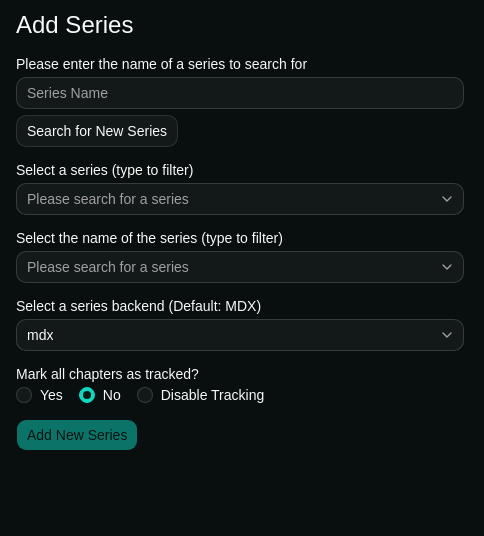
Test case: AddSeriesPage › requires a backend id for non-default backends
The image size is (484, 536).
Type "Test" into the field labelled "Please enter the name of a series to search for" at x=240, y=93, box [16,77,464,109]
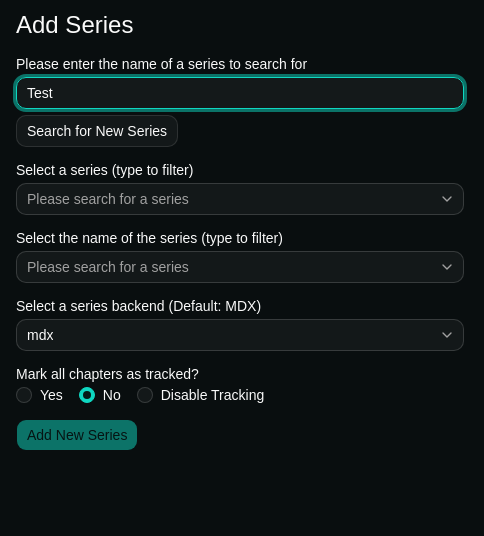
Click the button "Search for New Series" at x=97, y=131, box [16,115,178,147]
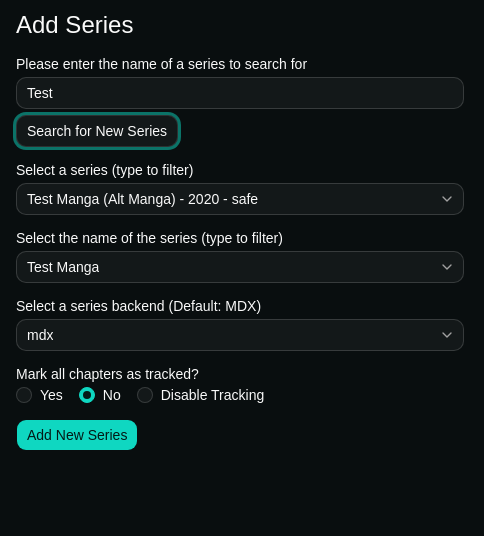
Expected: the dropdown named "Select a series (type to filter)" is shown, [16,183,464,215]
Click the dropdown named "Select a series backend (Default: MDX)" at x=40, y=335, box [16,319,464,351]
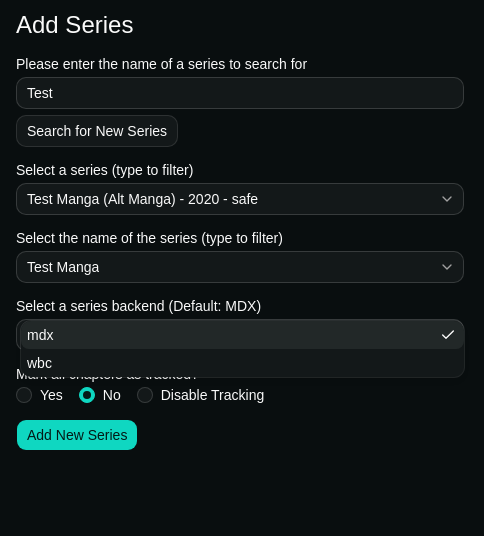
Click the option "wbc" at x=39, y=363, box [27,355,52,371]
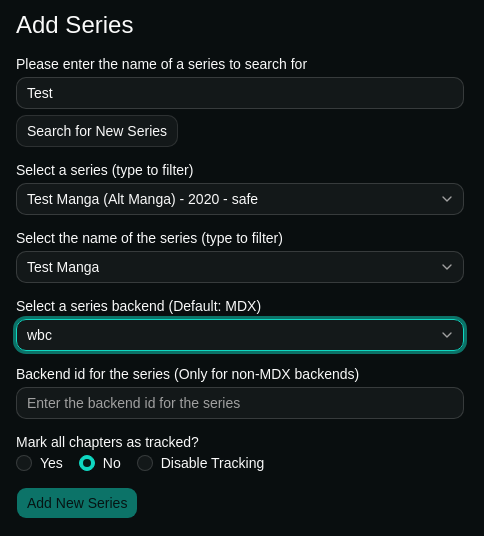
Expected: the button "Add New Series" is disabled, [16,487,138,519]
Type "wbc-id" into the field labelled "Backend id for the series (Only for non-MDX backends)" at x=240, y=403, box [16,387,464,419]
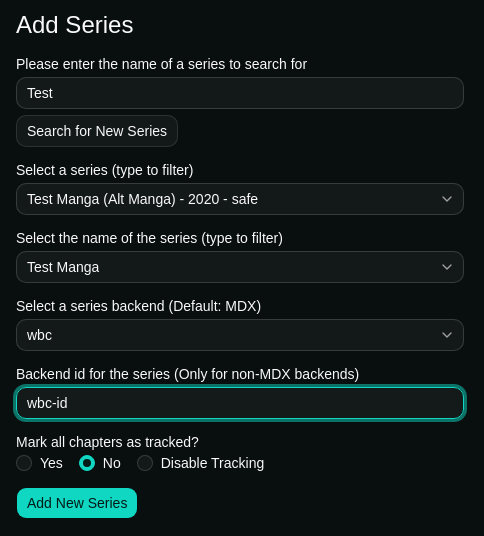
Expected: the button "Add New Series" is enabled, [16,487,138,519]
